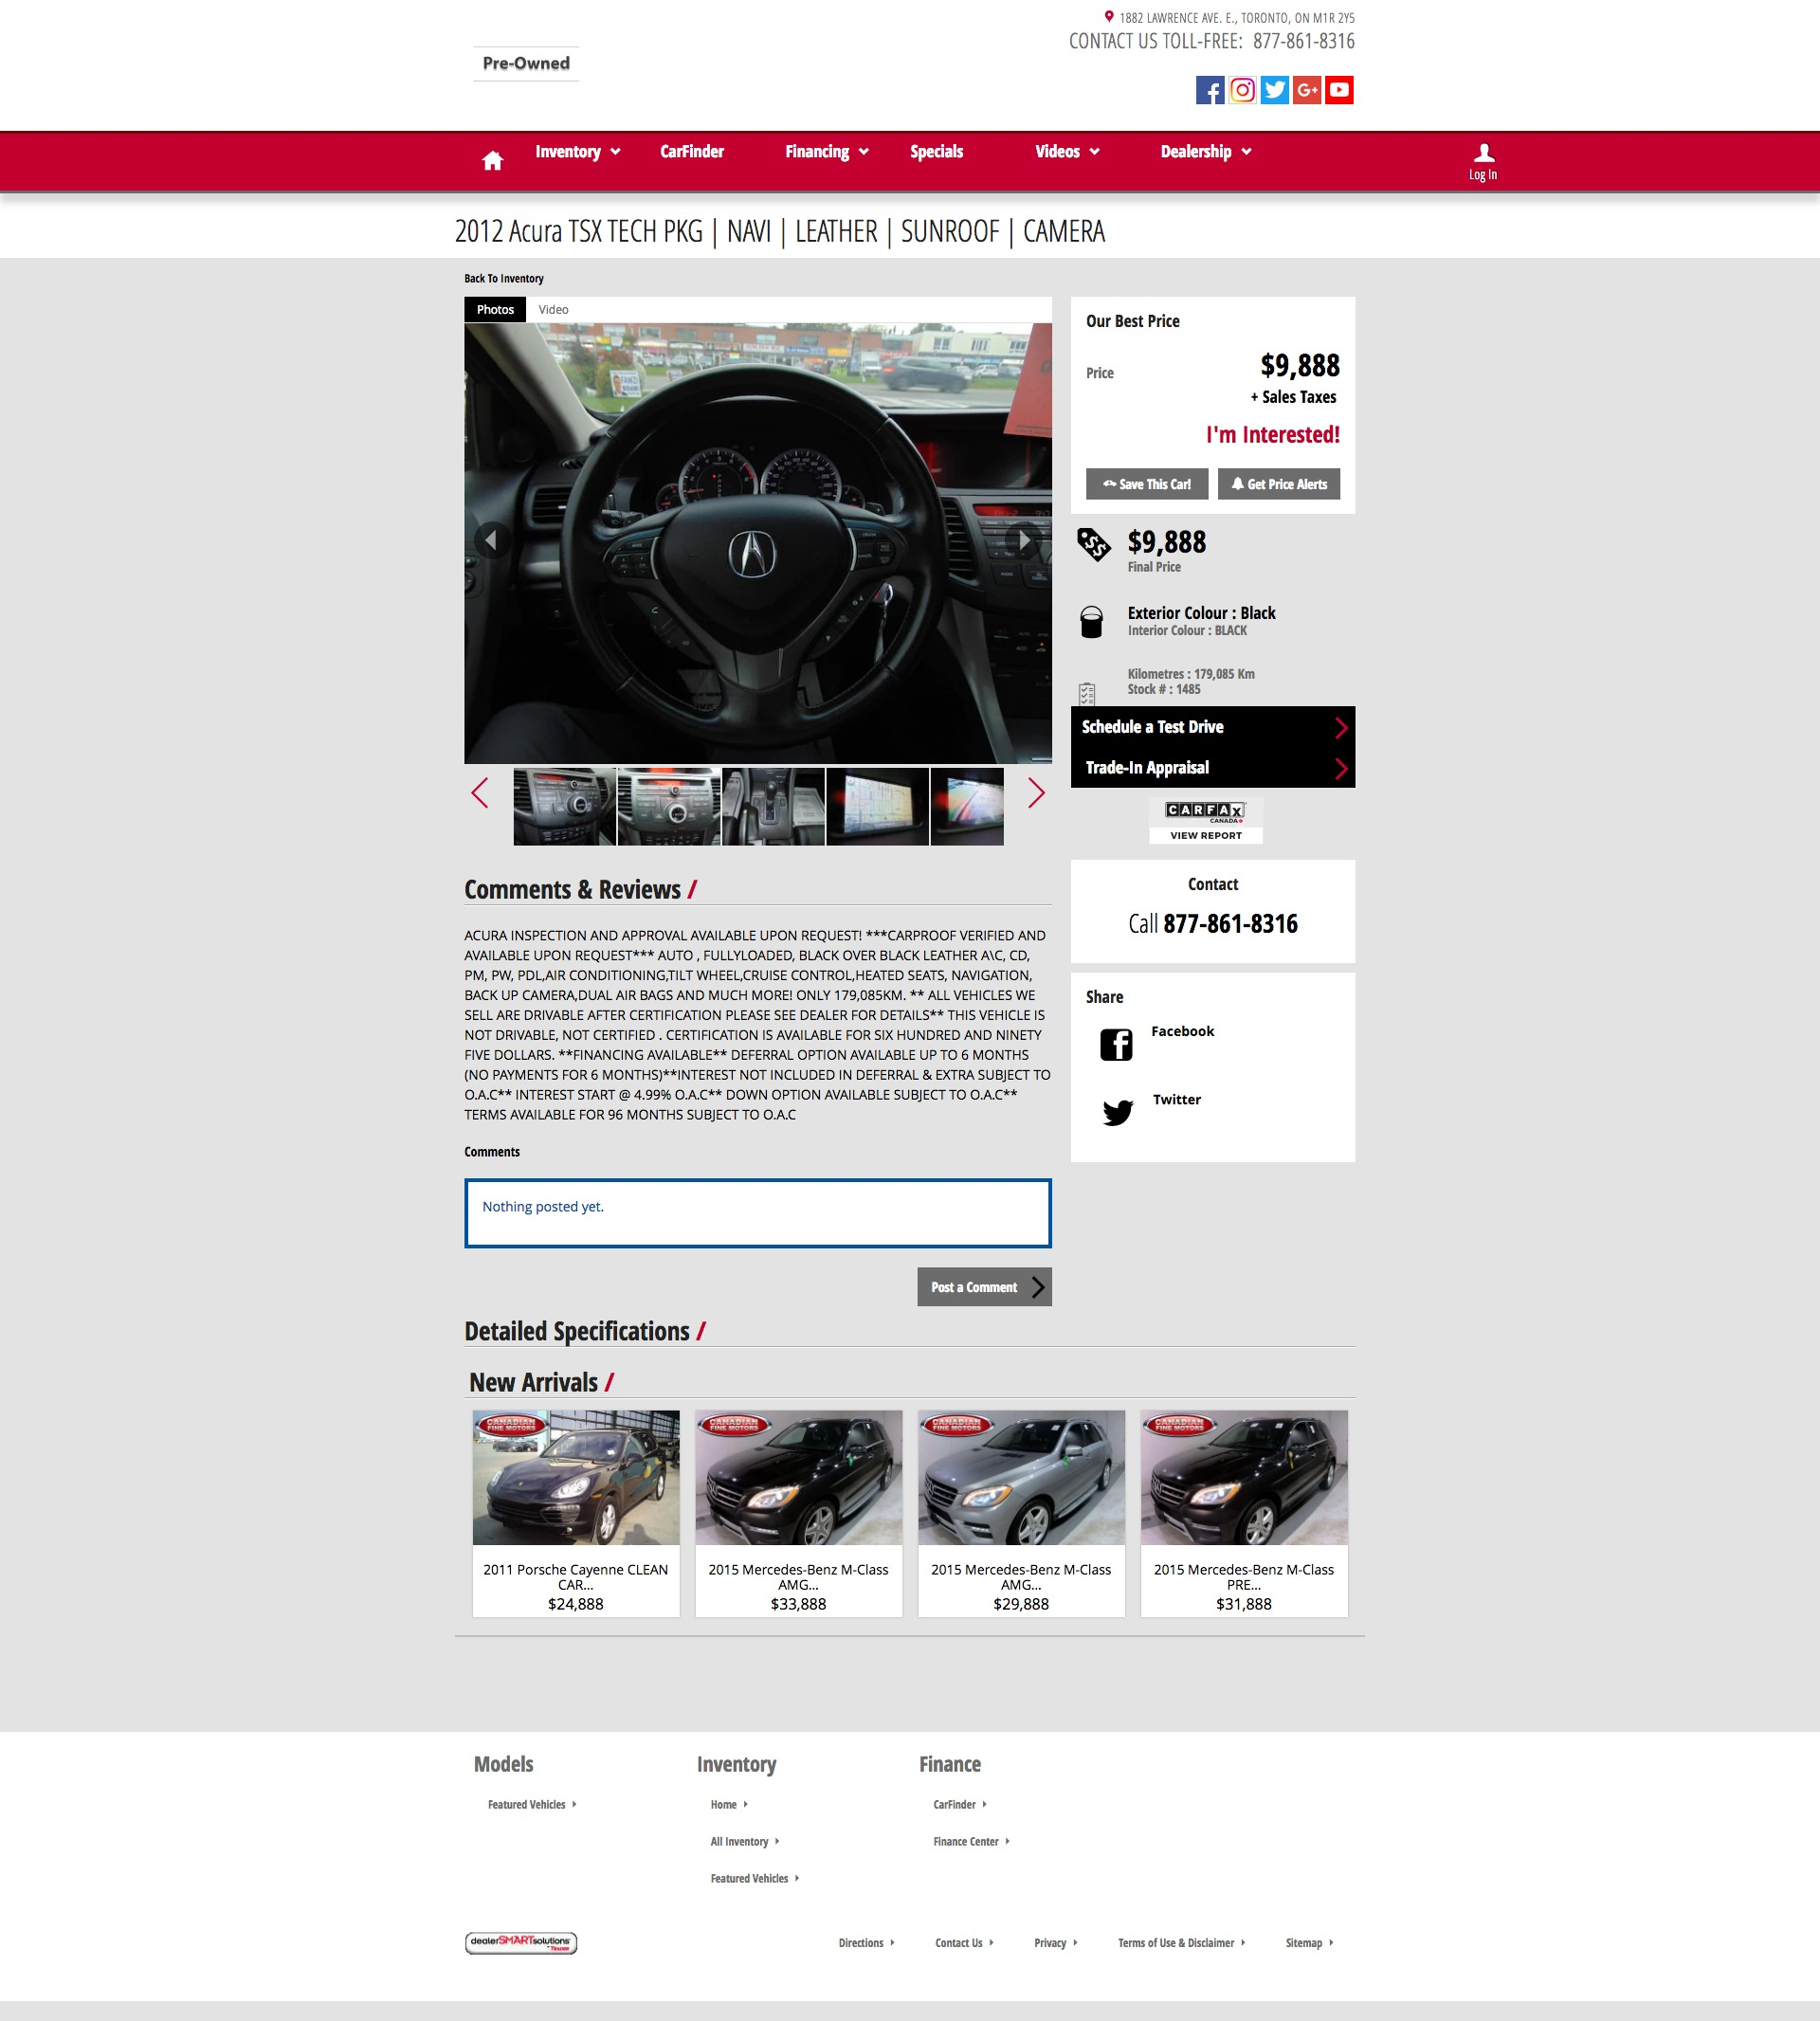car: (1024, 777, 1047, 810)
